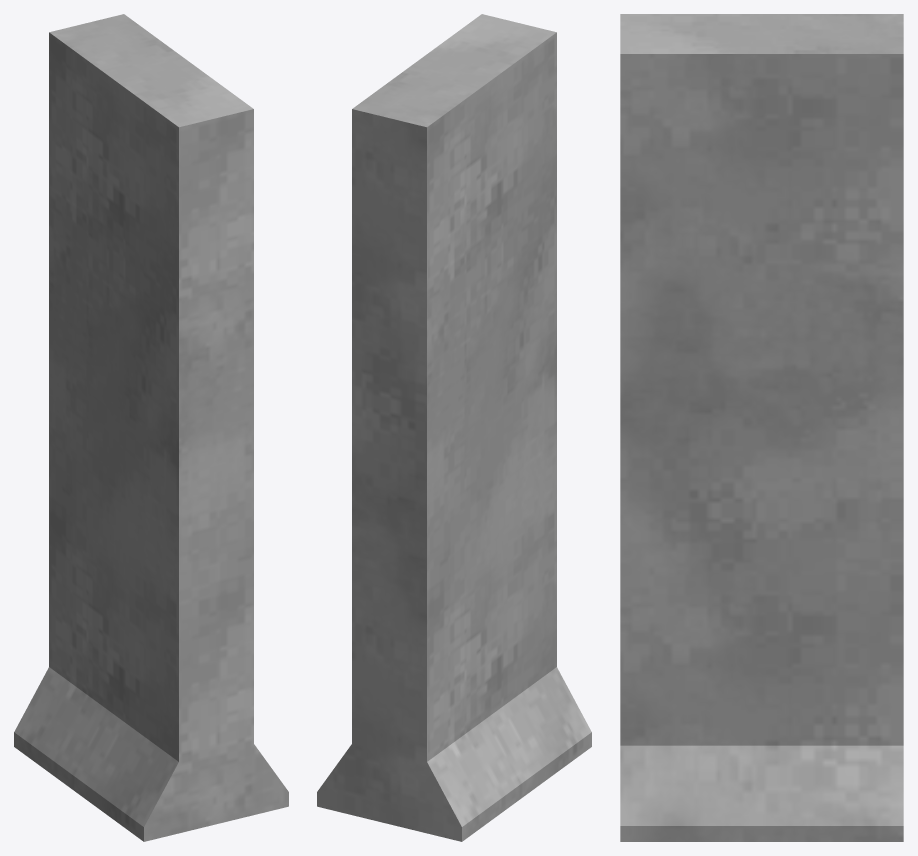
The model's file is Barrier_Big.fbx.
The picture shows the model from 3 angles, left to right: view 1: azimuth 30°, elevation 25°; view 2: azimuth 150°, elevation 25°; view 3: azimuth 270°, elevation 25°; orthographic projection. The views are drawn at different scales.
Visible parts, largest first — view 1: Barrier_Big; view 2: Barrier_Big; view 3: Barrier_Big.
Part boxes in pixels (box(x1,y1,x2,y2)): Barrier_Big: box(14, 14, 288, 841); Barrier_Big: box(317, 14, 591, 841); Barrier_Big: box(620, 14, 903, 841).
Size of what is drawn, in the model's own units: 193 by 900 by 300.
Materials: 1 (1 with a texture image).
